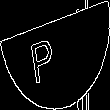P_N: (40, 26, 70, 84)
